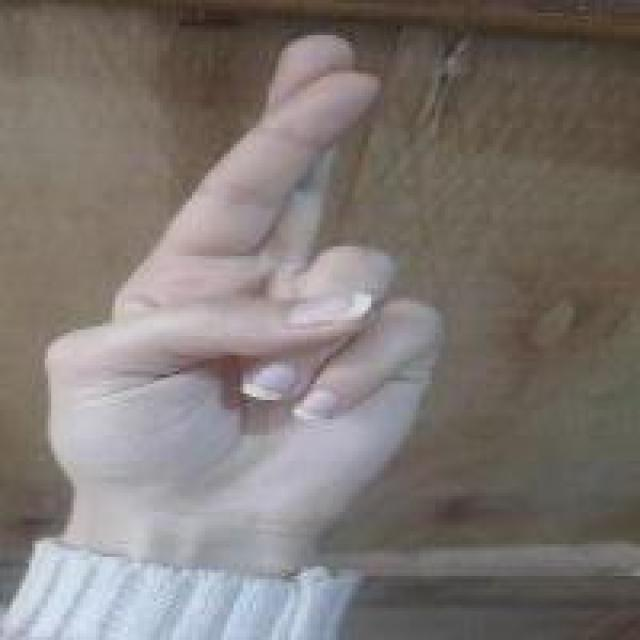R: (38, 24, 454, 526)
